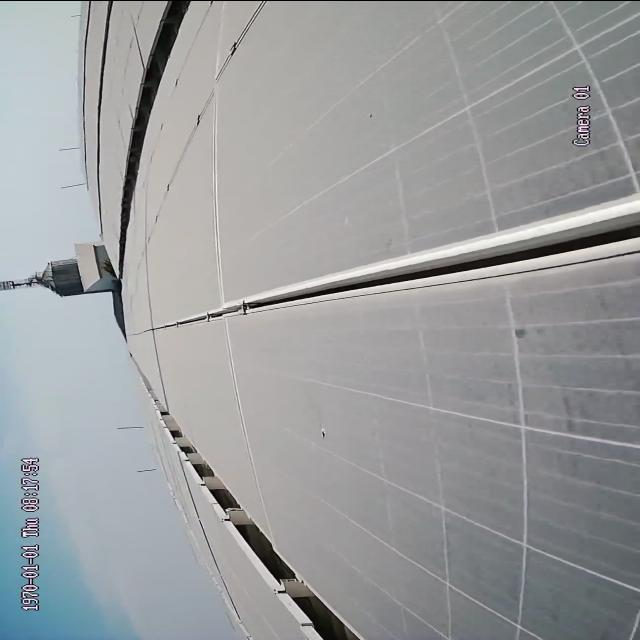interior panel: (160, 194, 631, 331)
outher panel: (136, 363, 358, 637), (116, 0, 201, 252)
